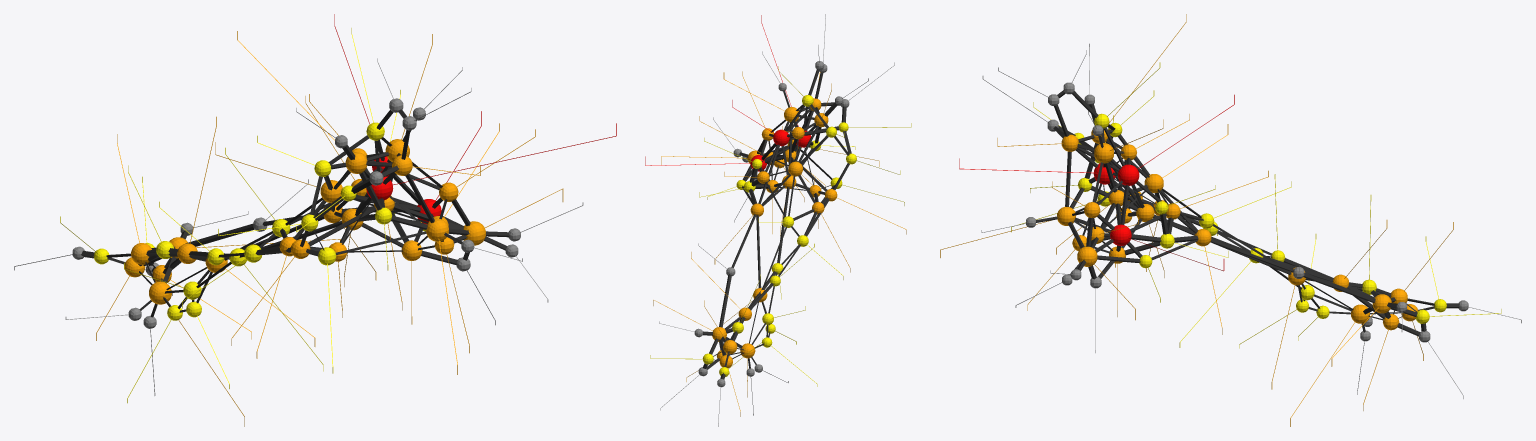
File: node_edges.obj
3 views of the same model, side by side, from view 1: azimuth 30°, elevation 25°; view 2: azimuth 150°, elevation 25°; view 3: azimuth 270°, elevation 25° (orthographic). The views are drawn at different scales.
Bounding box in the file's own units: 1218 × 1490 × 2042.
